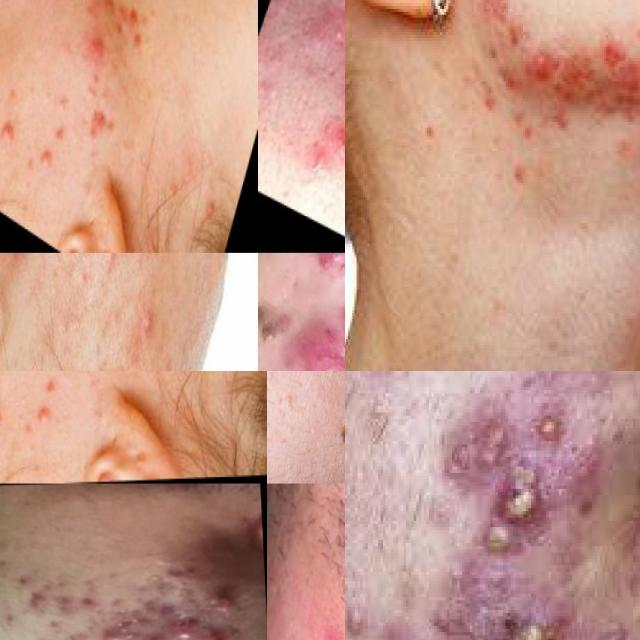acne_scars: (557, 29, 640, 127), (84, 91, 130, 169), (13, 586, 47, 610), (80, 371, 121, 384)
comedone: (82, 311, 116, 369)
crystanlline: (432, 381, 610, 530), (421, 562, 592, 640)
folliculitis: (182, 172, 226, 239), (211, 371, 254, 381)
papule: (508, 35, 559, 102), (321, 105, 345, 164), (165, 612, 205, 640), (210, 590, 247, 618), (309, 615, 345, 640), (83, 625, 131, 640), (208, 630, 237, 640), (152, 633, 169, 640)
pustule: (0, 84, 34, 173), (32, 132, 72, 190), (133, 288, 166, 348), (32, 394, 71, 434), (0, 375, 15, 446), (33, 0, 67, 13)
sebo-crystan-conglo: (289, 270, 345, 371), (130, 253, 174, 267)
